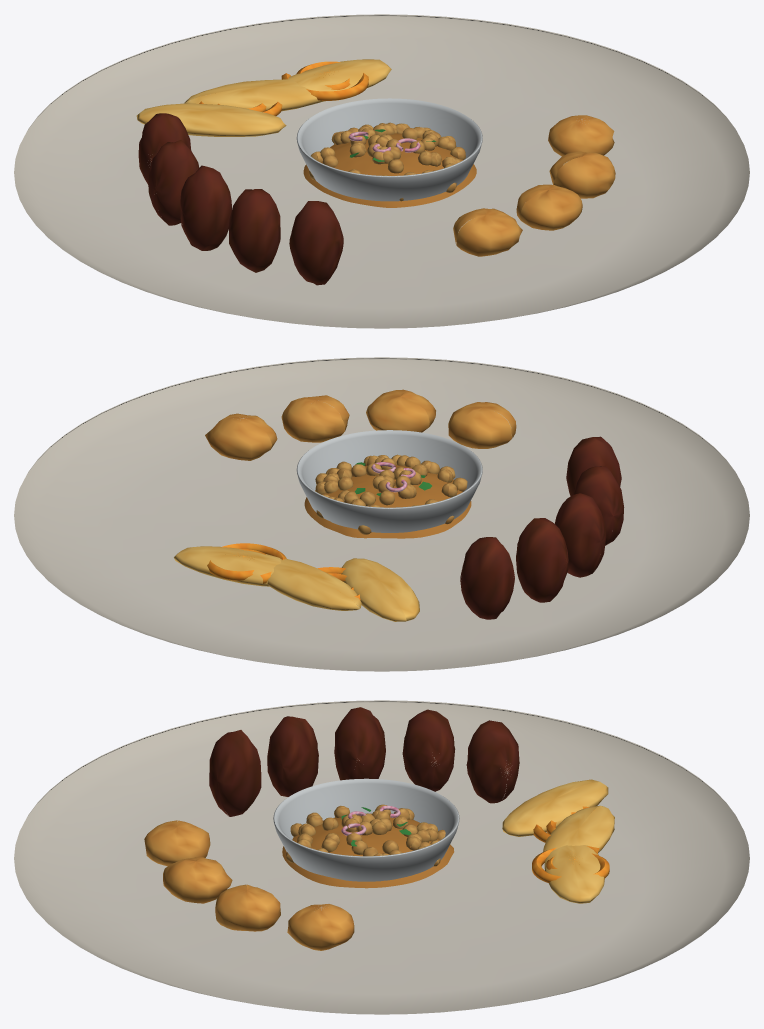
The model's file is iftar-assortment.glb.
The picture shows the model from 3 angles, top to bottom: view 1: azimuth 30°, elevation 25°; view 2: azimuth 150°, elevation 25°; view 3: azimuth 270°, elevation 25°; orthographic projection.
Visible parts, largest first — view 1: plate, fried, steel, food, garnish; view 2: plate, fried, steel, food, garnish; view 3: plate, fried, steel, food, garnish.
Part boxes in pixels (x1=…): plate: x1=14, y1=14, x2=749, y2=328; fried: x1=136, y1=59, x2=615, y2=285; steel: x1=296, y1=98, x2=482, y2=201; food: x1=303, y1=122, x2=476, y2=207; garnish: x1=348, y1=129, x2=435, y2=161; plate: x1=14, y1=357, x2=749, y2=671; fried: x1=174, y1=389, x2=624, y2=621; steel: x1=296, y1=430, x2=482, y2=532; food: x1=304, y1=454, x2=471, y2=538; garnish: x1=355, y1=462, x2=431, y2=496; plate: x1=14, y1=700, x2=749, y2=1014; fried: x1=144, y1=707, x2=614, y2=950; steel: x1=273, y1=778, x2=459, y2=881; food: x1=282, y1=804, x2=454, y2=888; garnish: x1=341, y1=805, x2=411, y2=846.
Size of the model in its own units: 2.37 by 0.3026 by 2.37.
